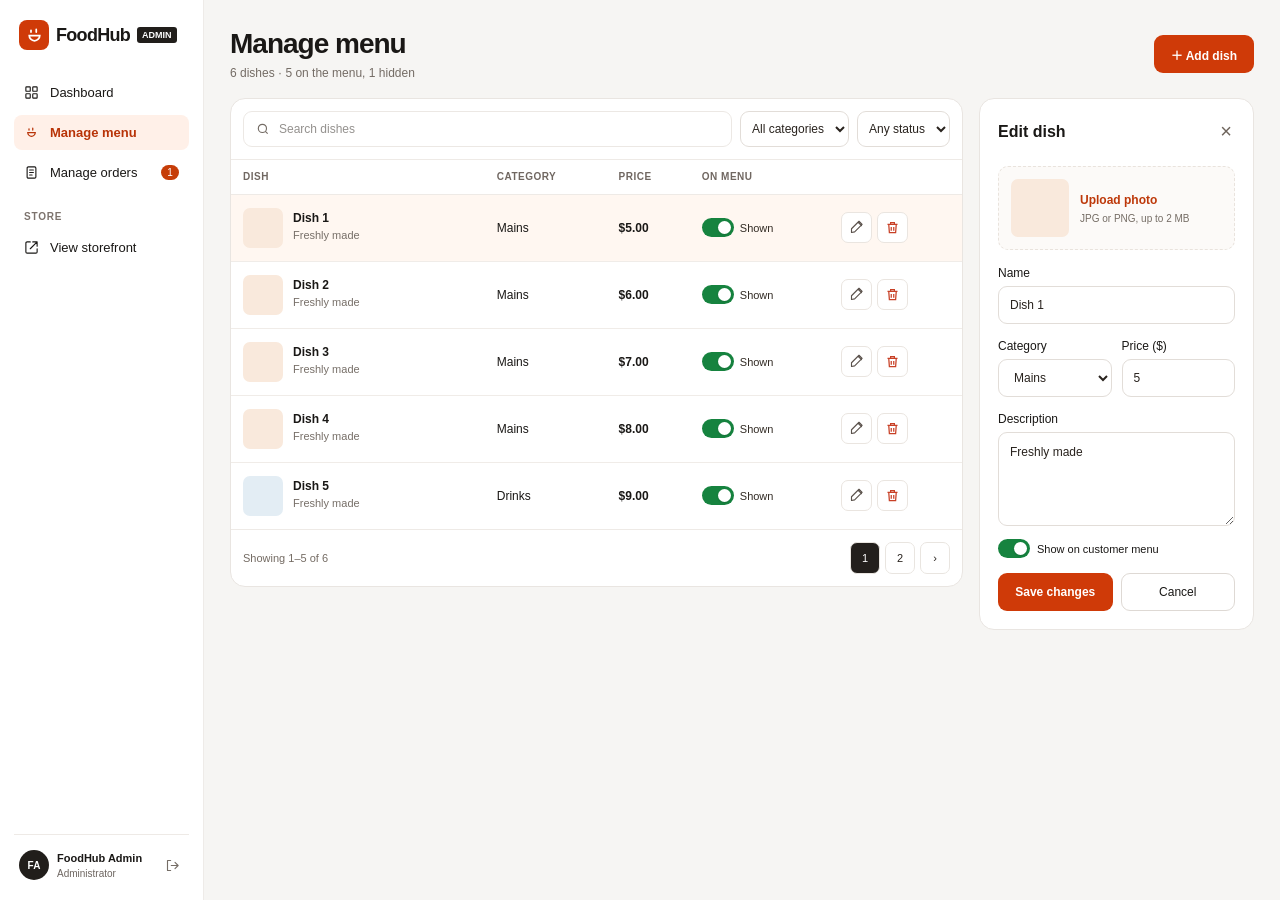
Scenario: React administration › paginates five dishes at a time and supports search, category and visibility filters
This screenshot has width=1280, height=900.
Expected: the heading "Manage menu" is shown, [230,28,415,60]
Expected: the number of rows is 6, [231,160,962,194]; [231,194,962,261]; [231,261,962,328]; [231,328,962,395]; [231,395,962,462]; [231,462,962,528]
Click the button named "Next page": (935, 558) [920,542,950,574]
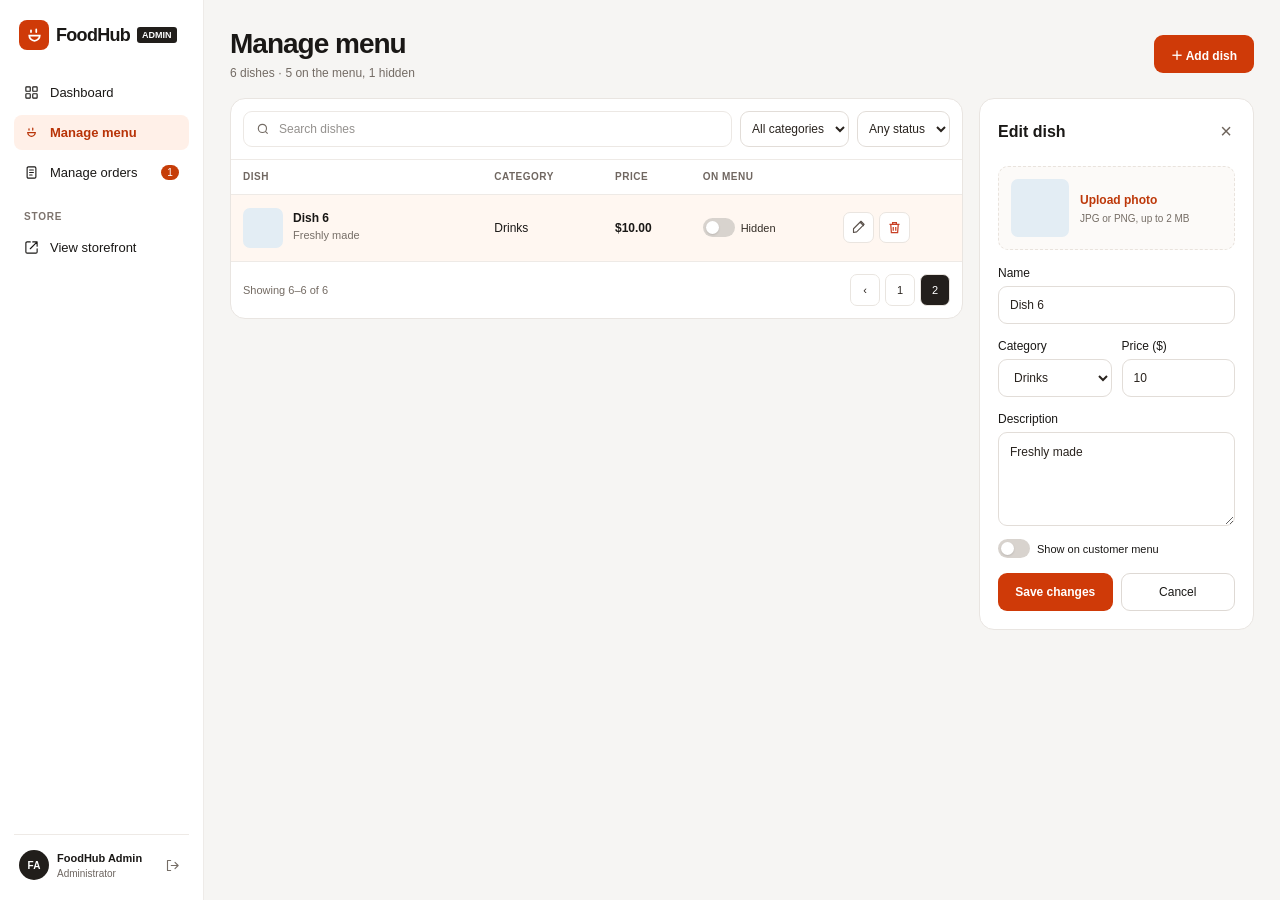
Expected: the text "Dish 6" is shown, [293,211,329,225]
In the search field labelled "Search dishes": (499, 129) [279,112,719,146], type "Dish 2"
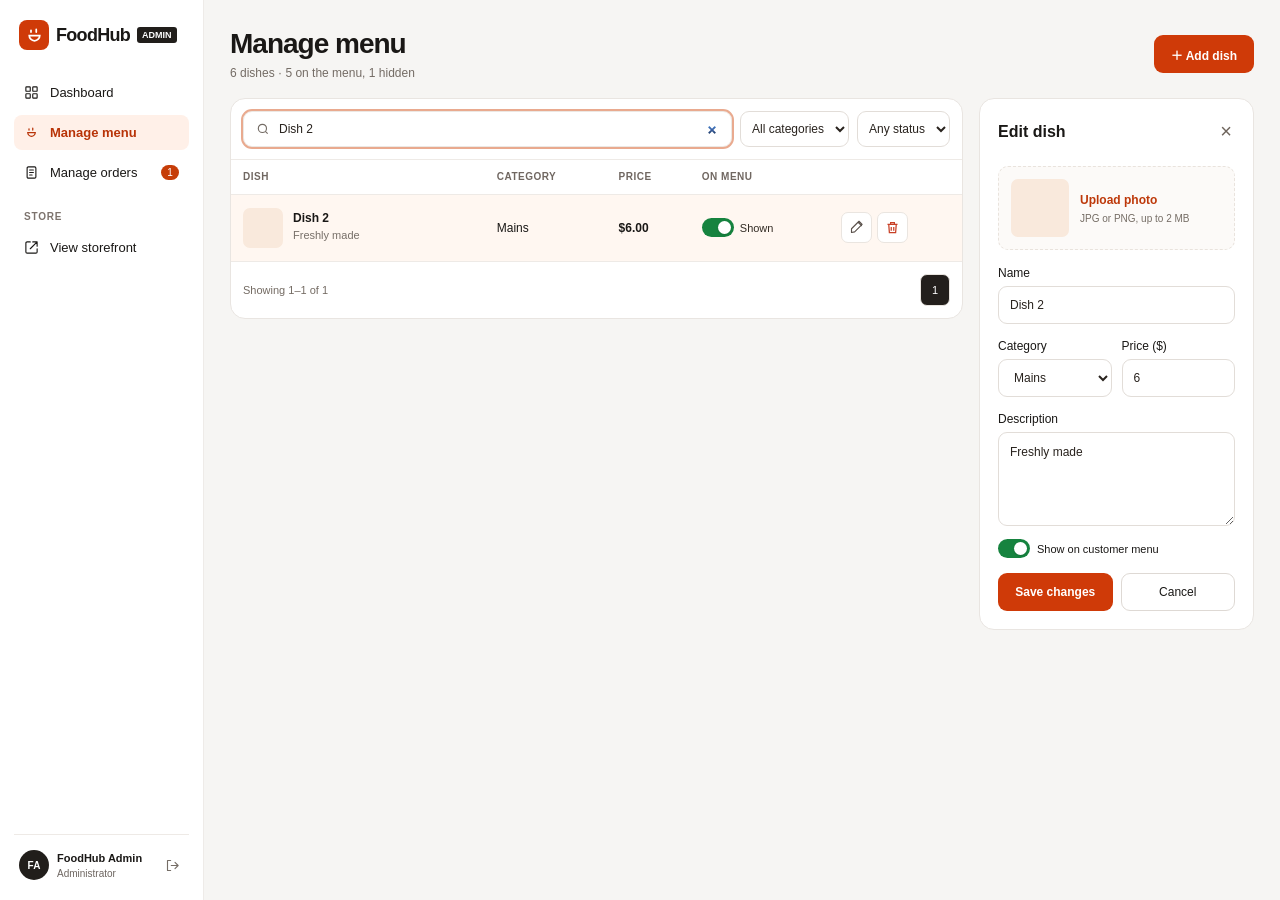
Expected: the text "Showing 1–1 of 1" is shown, [243,284,328,296]
Clear the search field named "Search dishes": (499, 129) [279,112,719,146]
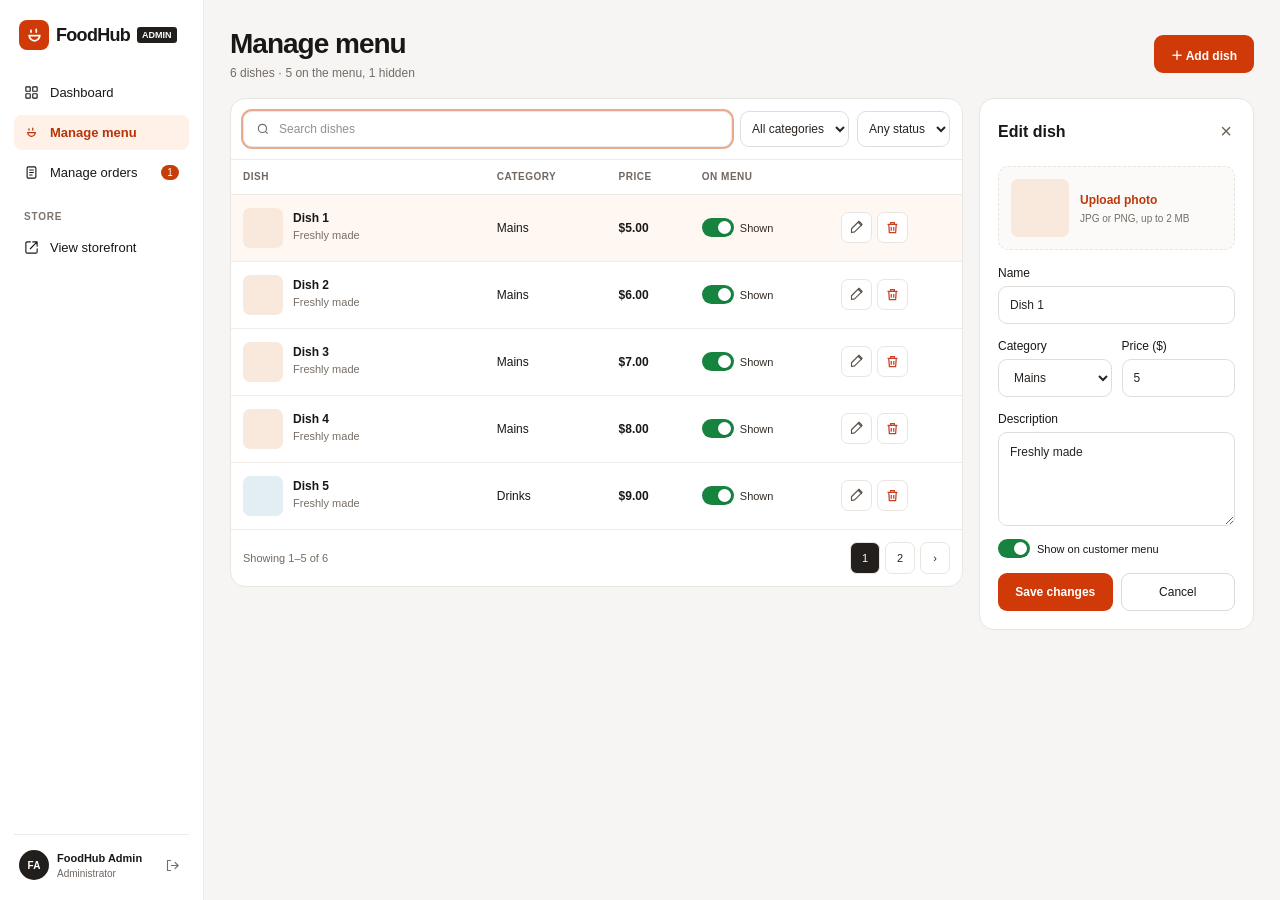
Select "Drinks" in the dropdown named "Filter category": (794, 129) [740,111,849,147]
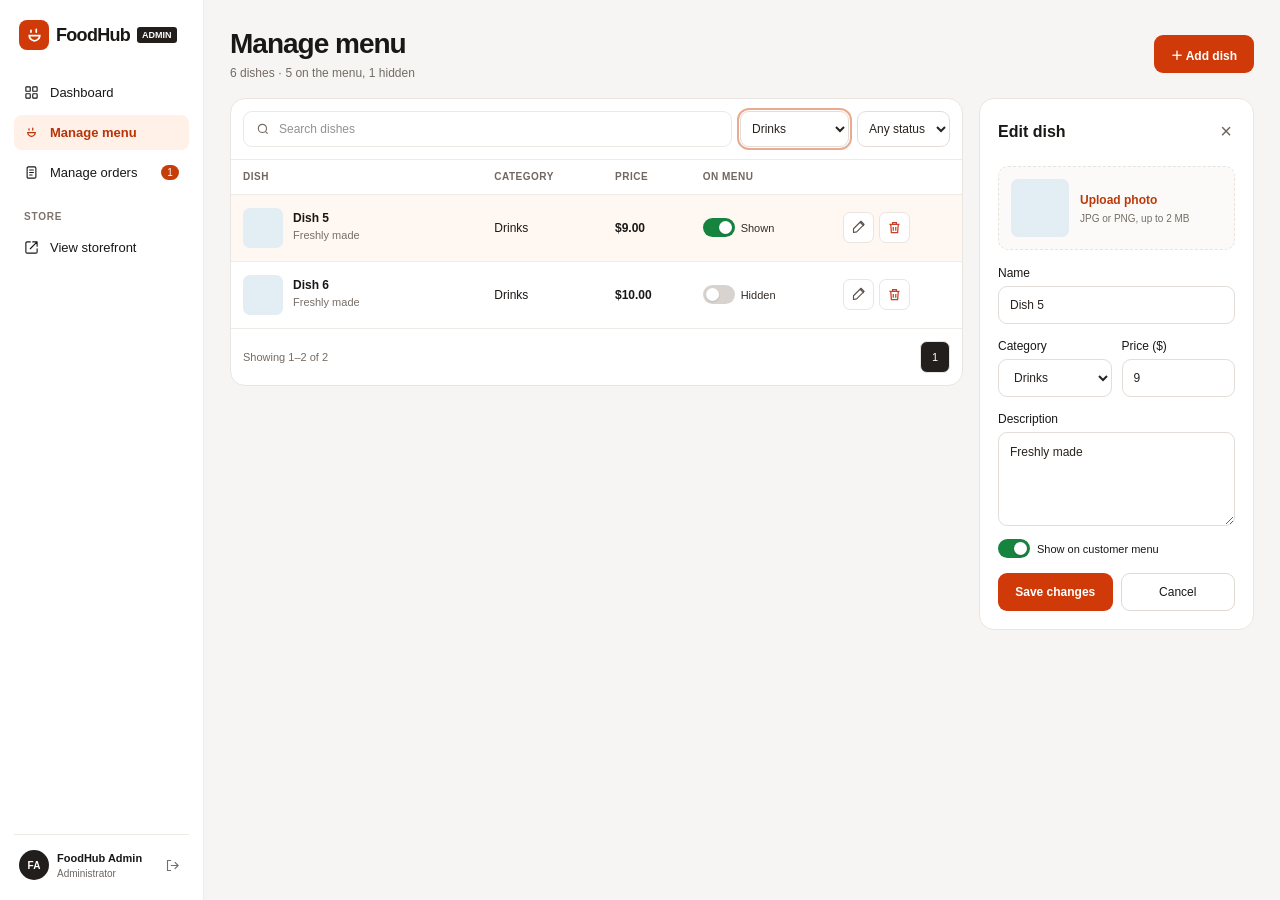
Select "Hidden" in the dropdown named "Filter visibility": (904, 129) [857,111,950,147]
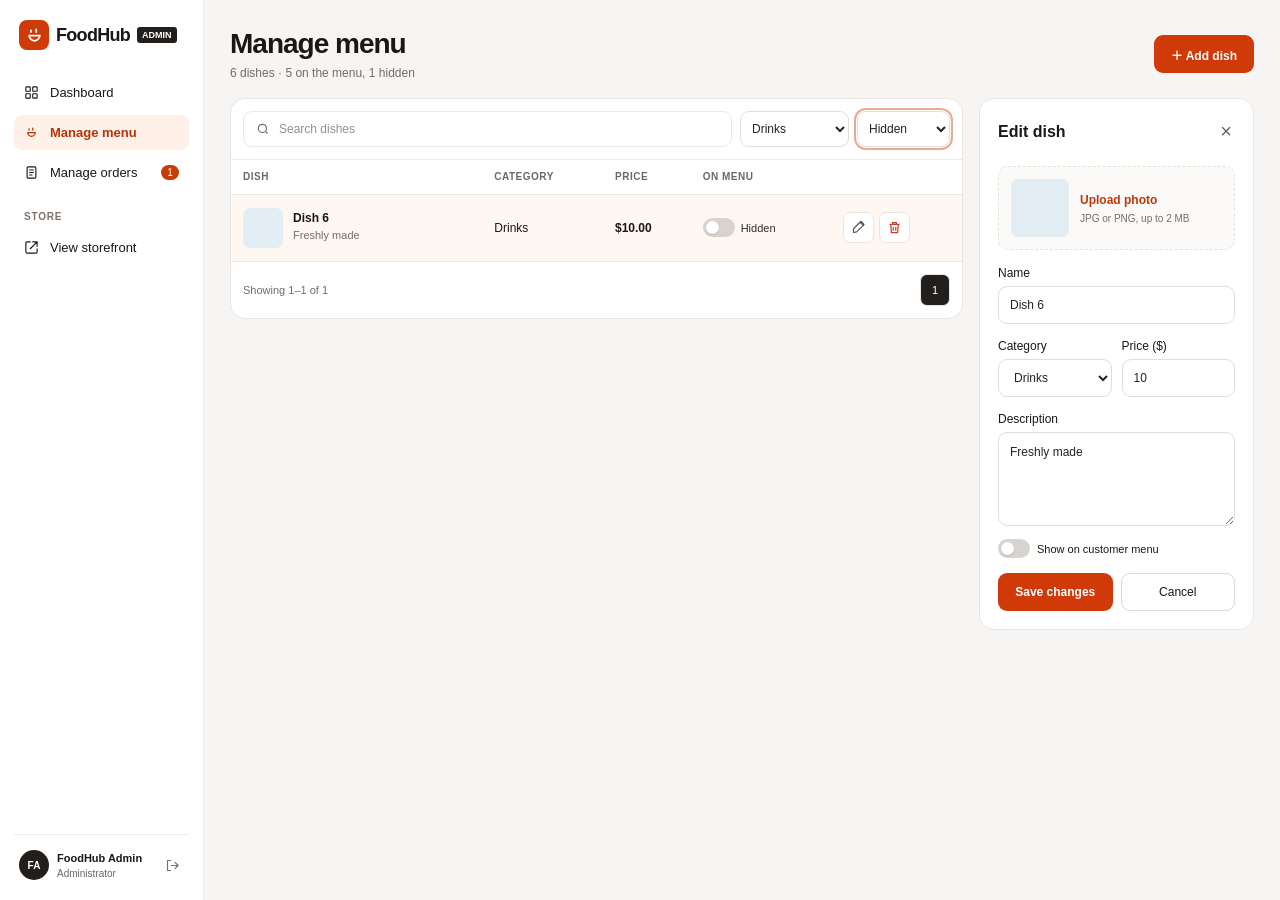
Expected: the text "Dish 6" is shown, [293,211,329,225]
Expected: the button "Dish 5" is gone
